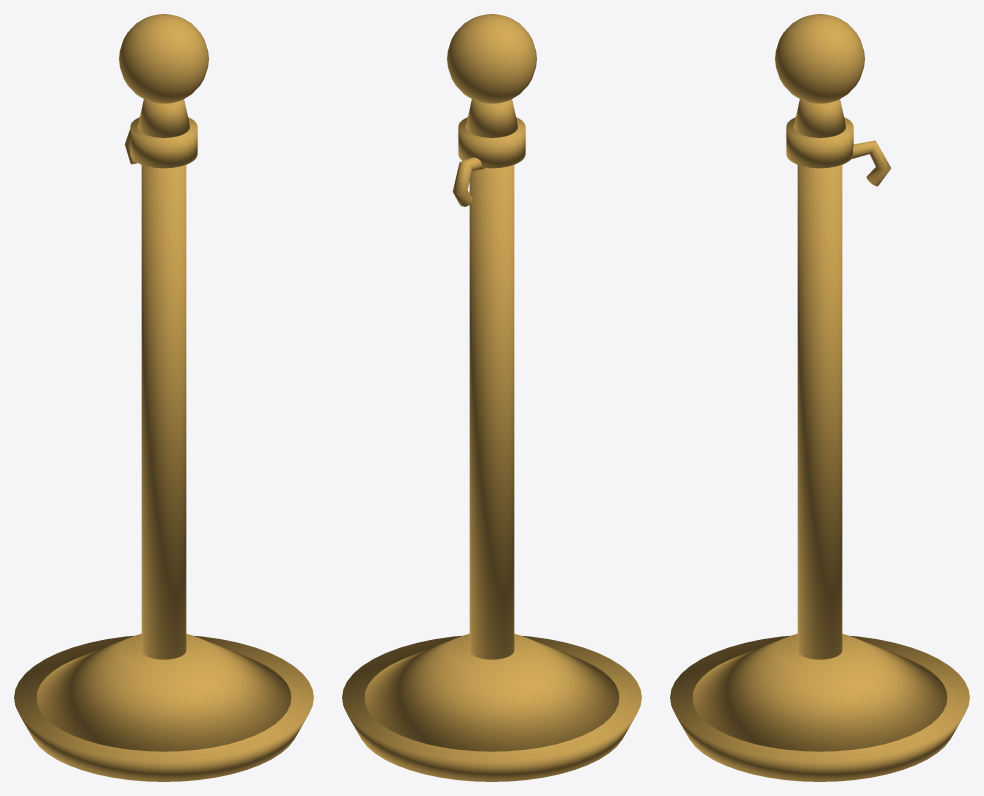
The model's file is street_queue_post.glb.
3 views of the same model, side by side, from view 1: azimuth 30°, elevation 25°; view 2: azimuth 150°, elevation 25°; view 3: azimuth 270°, elevation 25° (orthographic).
Parts seen in each view (by area): view 1: Post, BaseDome, Base, Ball, Collar, Neck; view 2: Post, BaseDome, Base, Ball, Collar, Neck, Hook; view 3: Post, BaseDome, Base, Ball, Collar, Neck, Hook.
Boxes of the visible parts, x1,y1,x2,y2 form: Post: [141, 165, 186, 659]; BaseDome: [36, 633, 291, 751]; Base: [14, 635, 313, 781]; Ball: [119, 14, 208, 103]; Collar: [130, 117, 197, 168]; Neck: [138, 99, 189, 137]; Post: [469, 165, 514, 659]; BaseDome: [364, 633, 619, 751]; Base: [342, 635, 641, 781]; Ball: [447, 14, 536, 103]; Collar: [458, 117, 525, 168]; Neck: [466, 99, 517, 137]; Hook: [452, 157, 484, 206]; Post: [797, 165, 842, 659]; BaseDome: [692, 633, 947, 751]; Base: [670, 635, 969, 781]; Ball: [775, 14, 864, 103]; Collar: [786, 117, 853, 168]; Neck: [794, 99, 845, 137]; Hook: [851, 140, 890, 186].
Size of the model in its own units: 0.2367 by 0.6154 by 0.2367.
